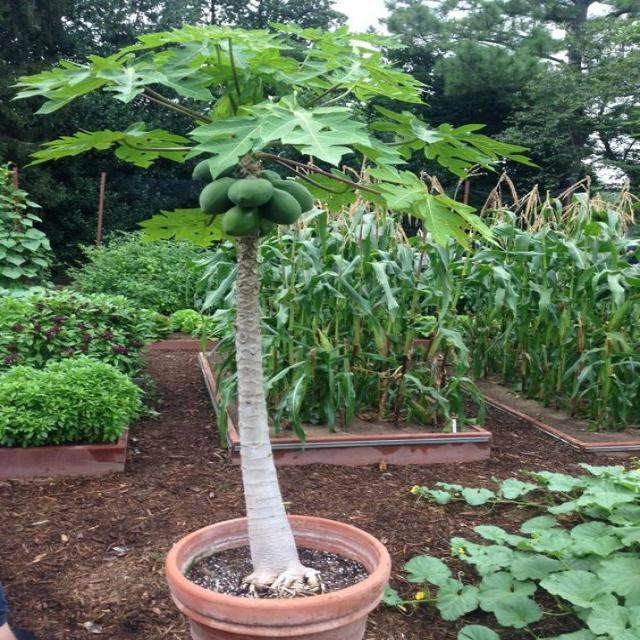Papaya-Tree: (46, 26, 470, 565)
